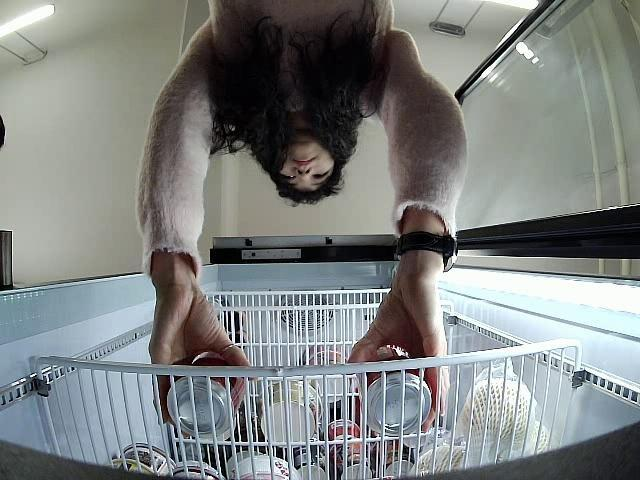11_cocaColaZero: (164, 350, 247, 441), (358, 346, 434, 434)
